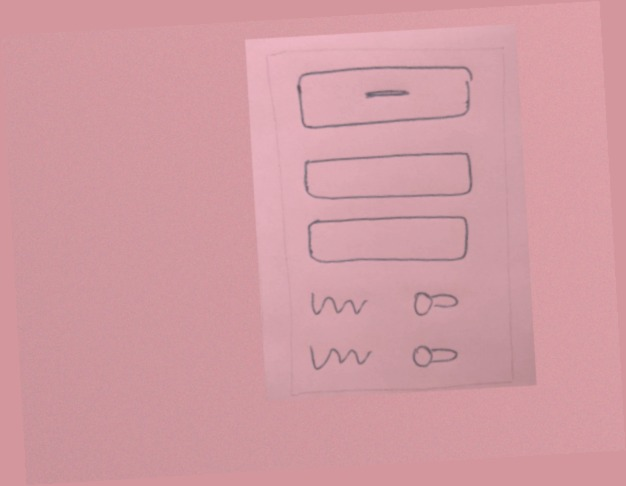button: (291, 58, 479, 134)
switch: (409, 281, 462, 323), (409, 333, 462, 375)
text: (304, 284, 373, 326), (306, 335, 375, 376)
text_input: (300, 144, 478, 212), (300, 206, 478, 274)
